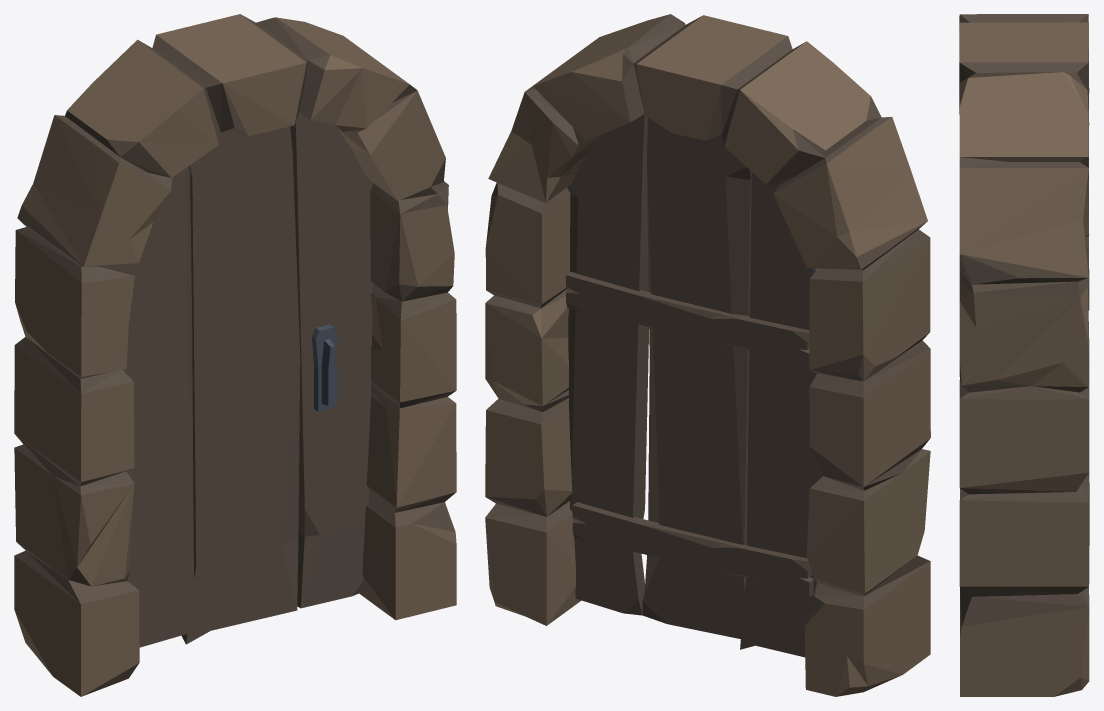
Rendered from Door.FBX.
The picture shows the model from 3 angles, left to right: view 1: azimuth 30°, elevation 25°; view 2: azimuth 150°, elevation 25°; view 3: azimuth 270°, elevation 25°; orthographic projection. The views are drawn at different scales.
Visible parts, largest first — view 1: Object002; view 2: Object002; view 3: Object002.
Part boxes in pixels (left/top/right/bottom): Object002: left=14, top=14, right=456, bottom=696; Object002: left=485, top=14, right=930, bottom=696; Object002: left=959, top=14, right=1089, bottom=696.
Bounding box in the file's own units: 1.85 × 2.75 × 0.5719.
